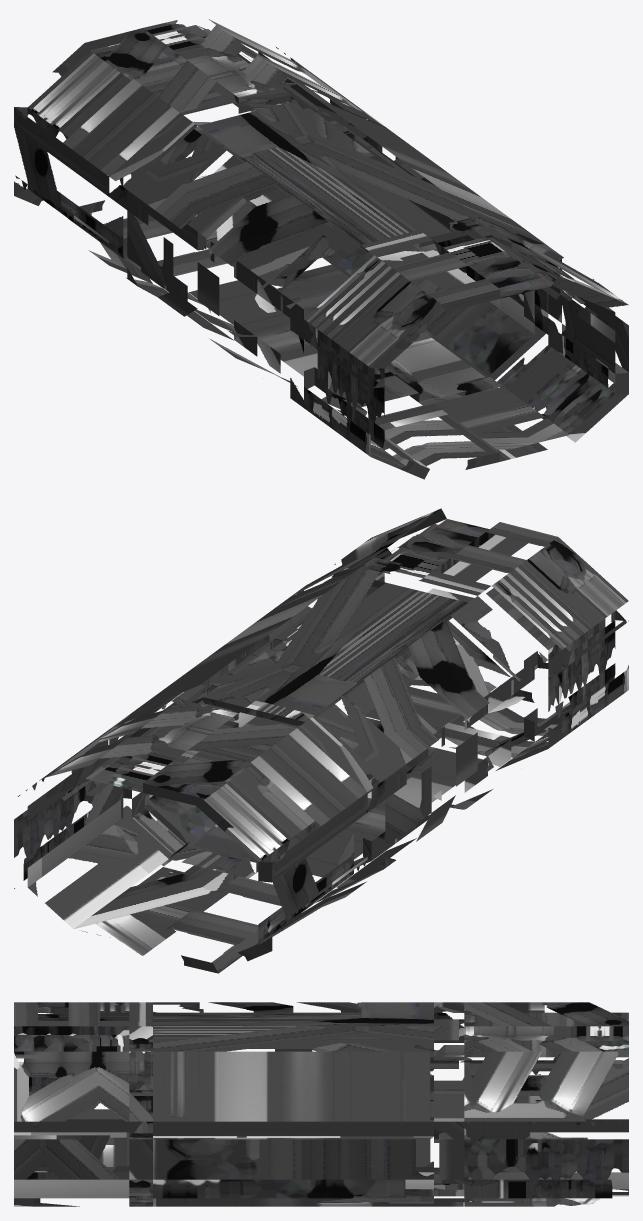
The model's file is corridore_straight.obj.
3 views of the same model, one above another, from view 1: azimuth 30°, elevation 25°; view 2: azimuth 150°, elevation 25°; view 3: azimuth 270°, elevation 25° (orthographic). The views are drawn at different scales.
Visible parts, largest first — view 1: Cube.001; view 2: Cube.001; view 3: Cube.001.
Part boxes in pixels (x1,y1,x2,y2): Cube.001: [14, 19, 628, 479]; Cube.001: [14, 508, 628, 973]; Cube.001: [14, 1002, 628, 1206].
Size of the model in its own units: 2.24 by 1.43 by 5.36.
